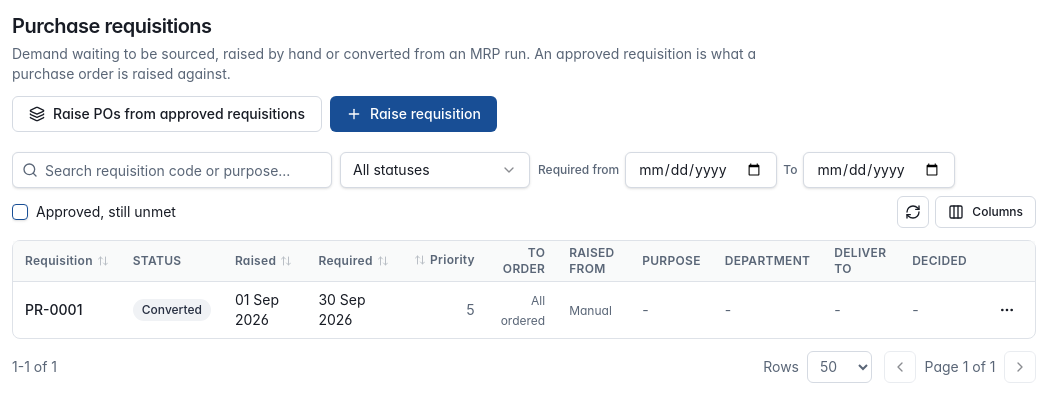
Scenario: the state machine decides which commands exist › offers only Close on a converted requisition with nothing left to order
Click the button named "Actions for PR-0001". click: (1007, 310)
box: [991,294,1023,326]
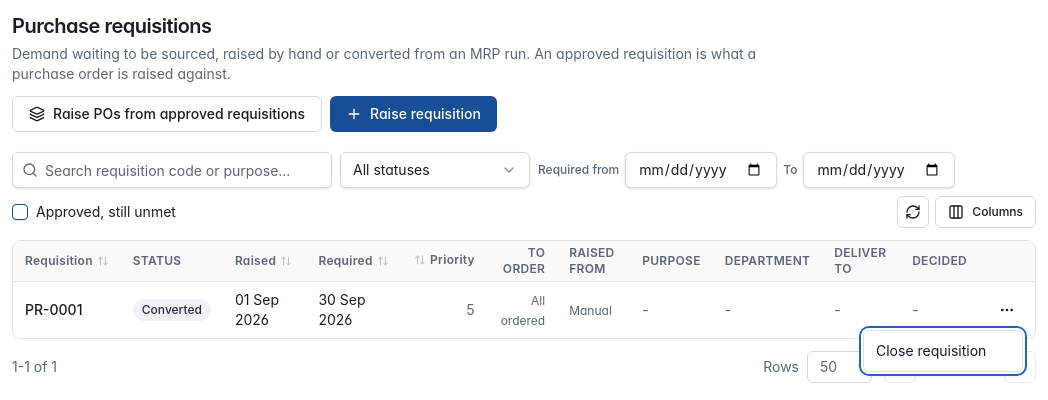
expect the menu is shown: met, box [863,330,1023,372]
expect the menu items read "Close requisition", in this order: met, box [876,342,986,359]
